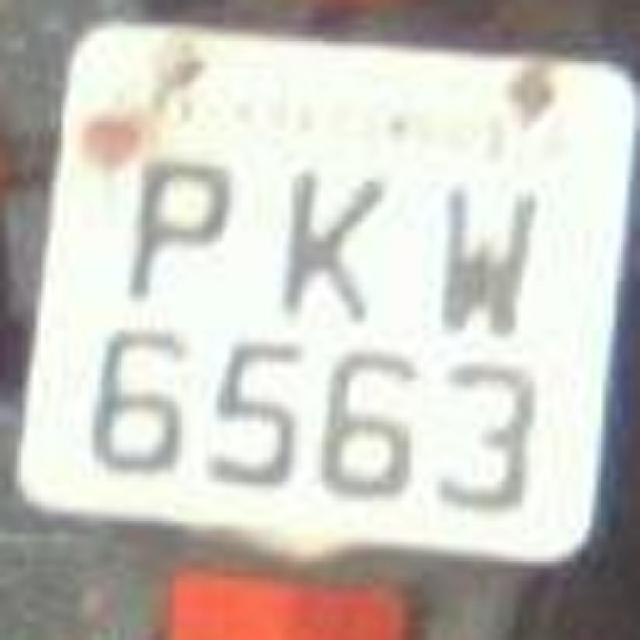3: (408, 324, 572, 524)
5: (189, 329, 336, 496)
6: (68, 308, 212, 512), (304, 325, 448, 520)
K: (264, 156, 384, 332)
P: (109, 152, 236, 336)
W: (412, 156, 528, 336)
